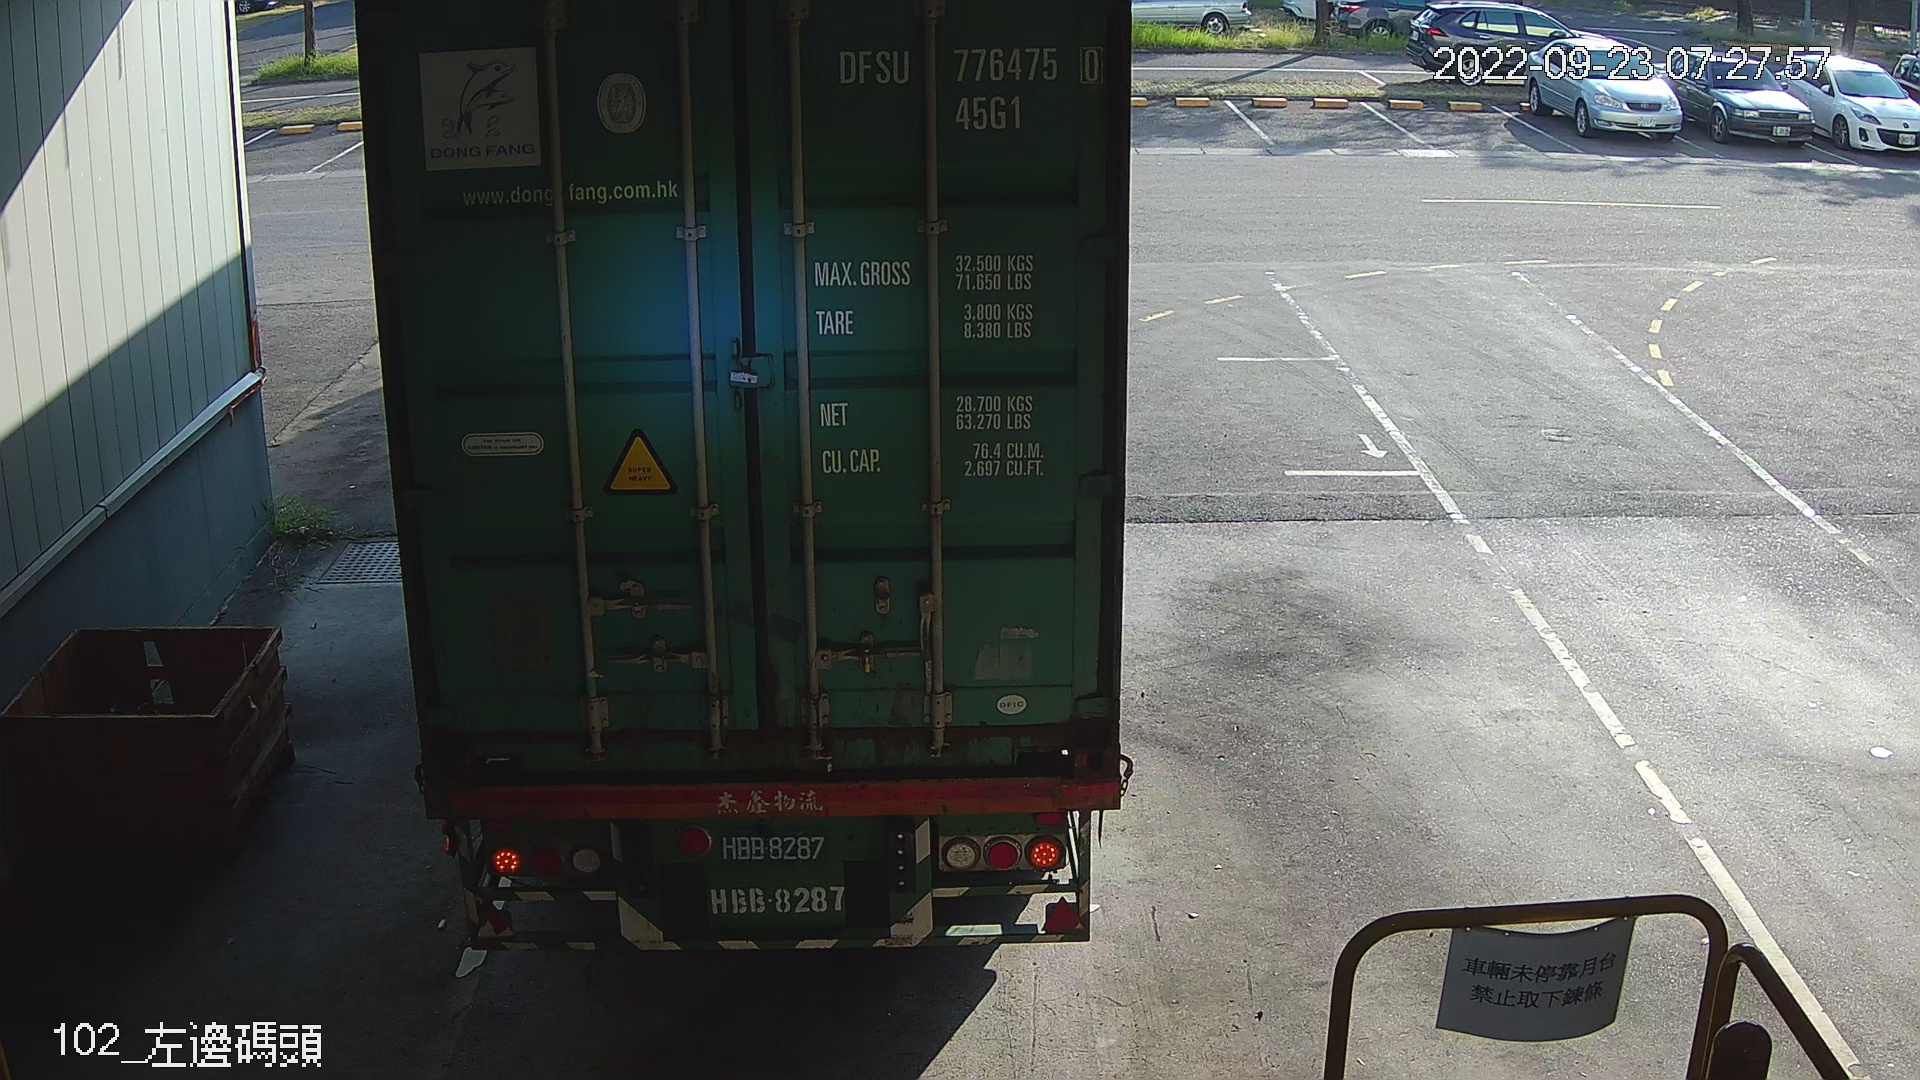container: (828, 38, 1117, 138)
